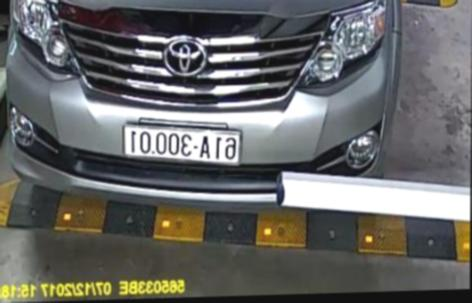License_Plate: (110, 111, 251, 173)
